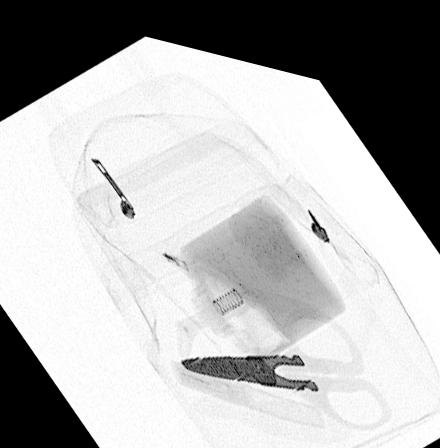Scissors: (172, 286, 395, 420)
